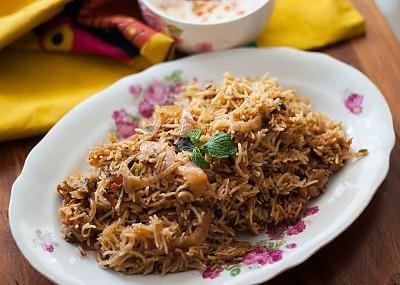Biryani: (59, 72, 369, 275)
